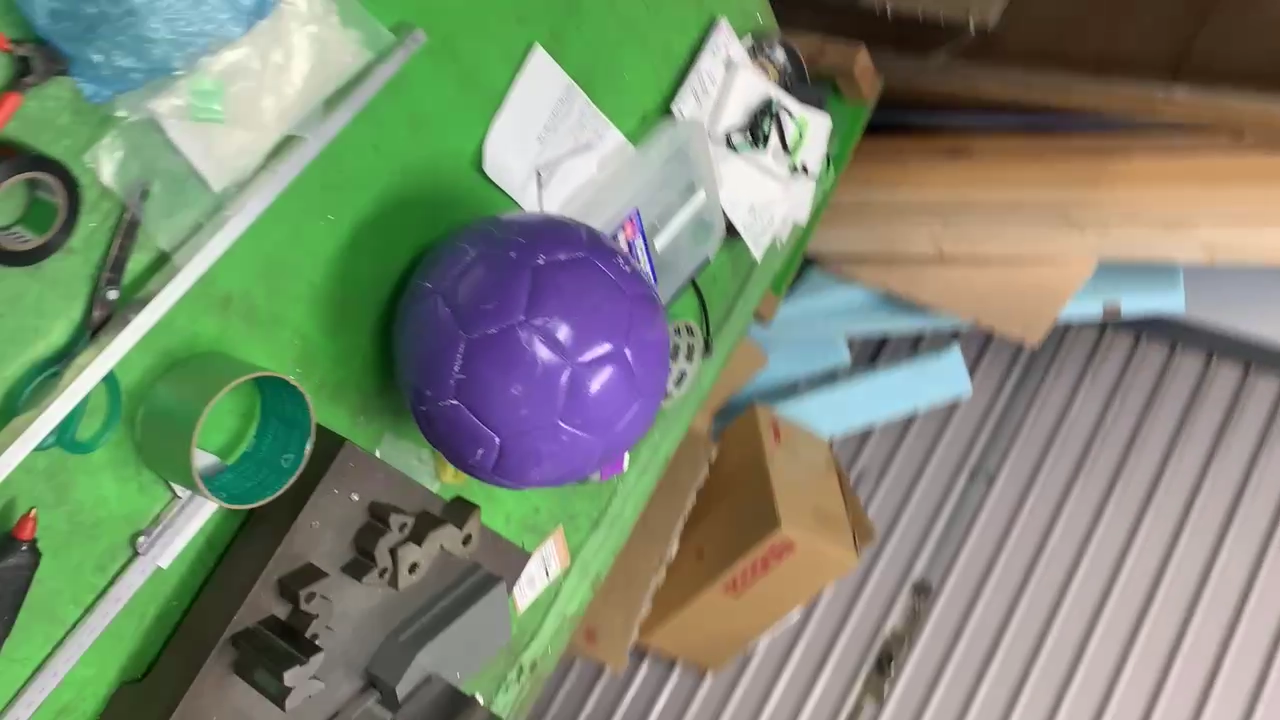purple: (390, 214, 667, 487)
